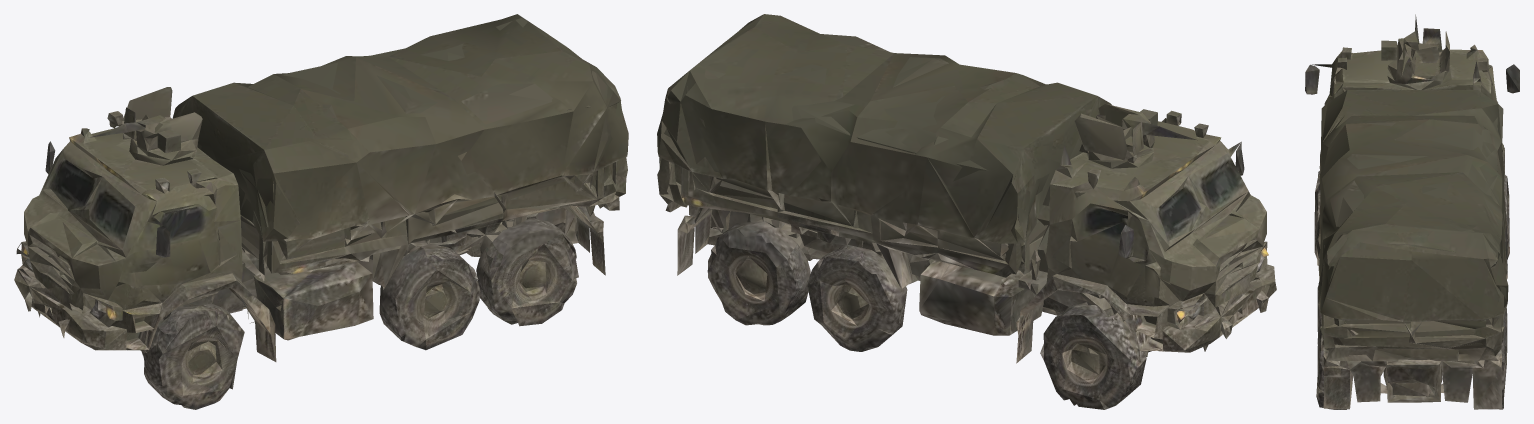
Rendered from truck.glb.
3 views of the same model, side by side, from view 1: azimuth 30°, elevation 25°; view 2: azimuth 150°, elevation 25°; view 3: azimuth 270°, elevation 25° (orthographic). The views are drawn at different scales.
Visible parts, largest first — view 1: Mesh_0; view 2: Mesh_0; view 3: Mesh_0.
Part boxes in pixels (box(x1,y1,x2,y2)): Mesh_0: box(14, 14, 628, 409); Mesh_0: box(657, 14, 1276, 409); Mesh_0: box(1305, 14, 1519, 409).
Size of the model in its own units: 1.9 by 0.8741 by 0.7293.
Materials: 1 (1 with a texture image).
